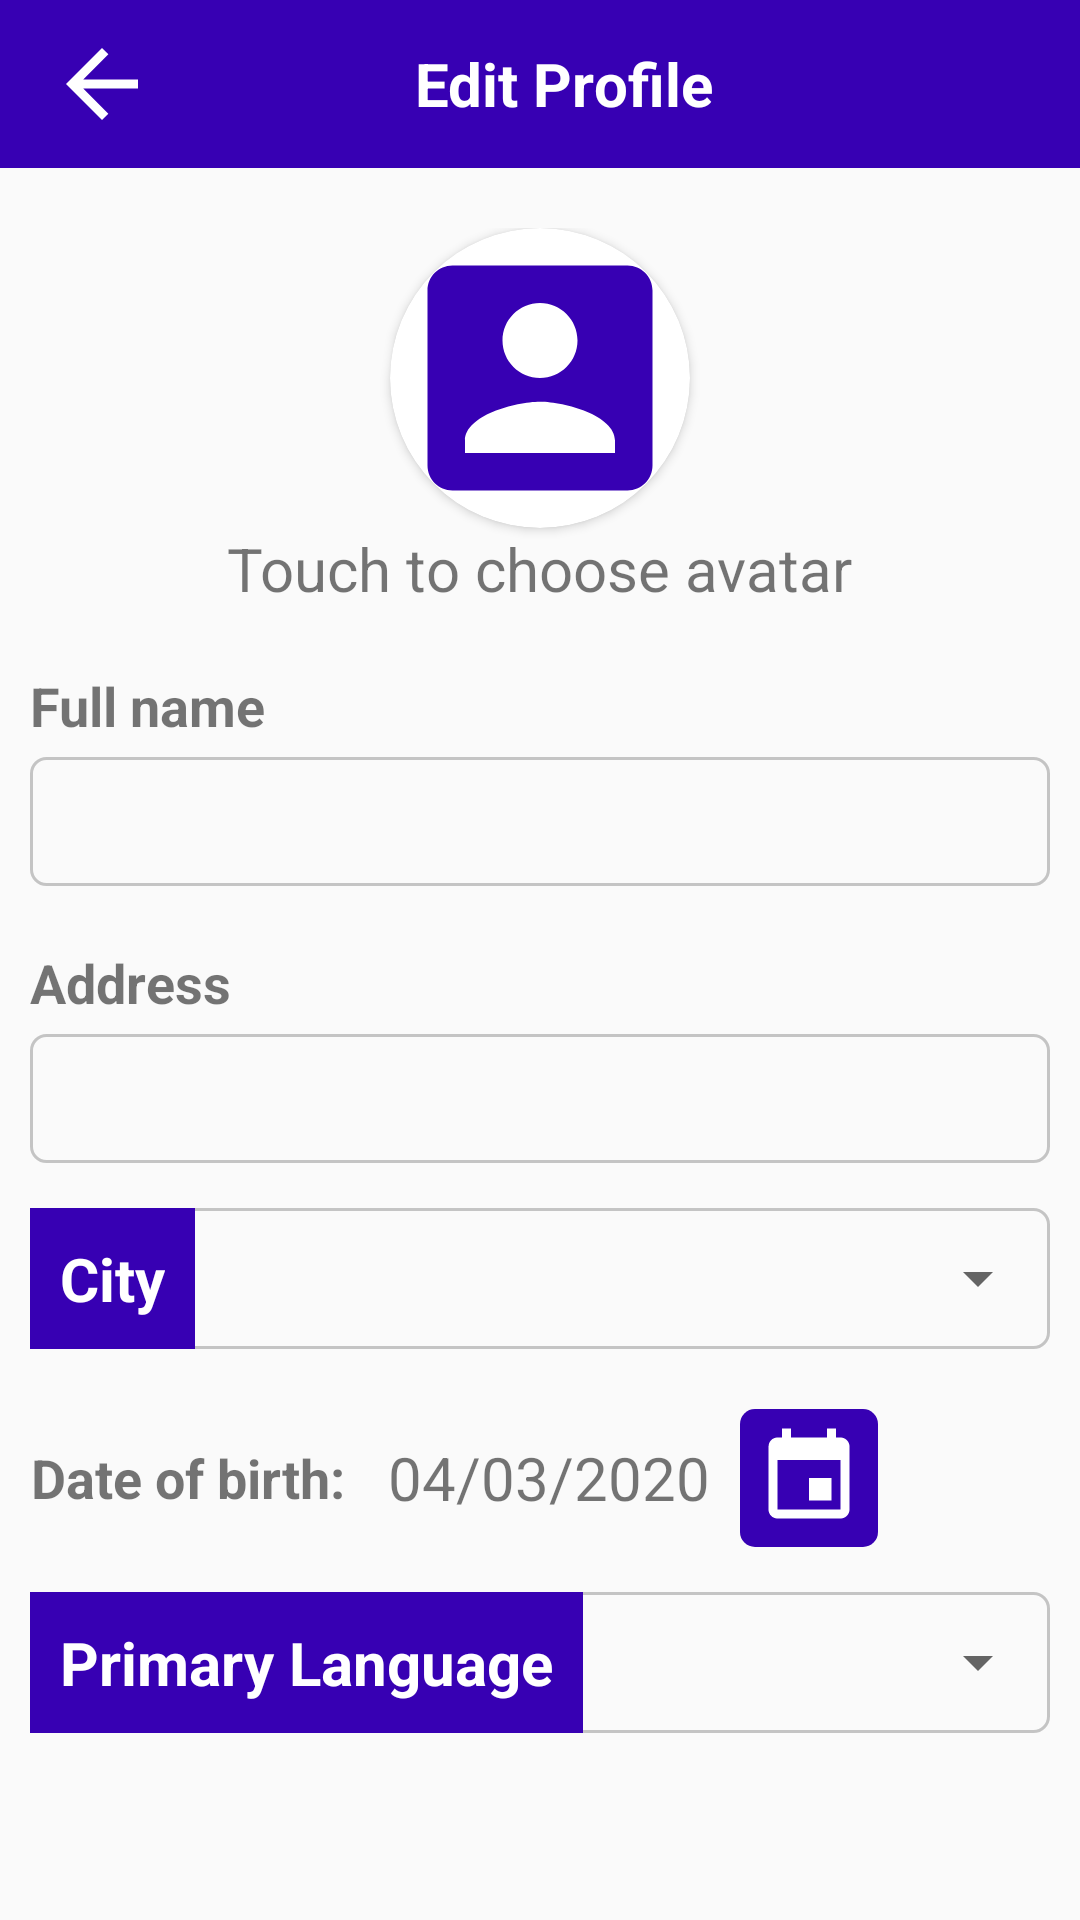

Point at icon controls on the screen. Image size 1080×1920, points as [x,y].
back: [102,84]
insert invitation: [809,1478]
